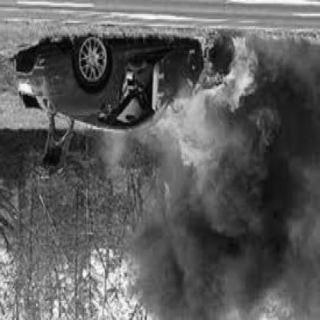Fire: (155, 28, 277, 210)
Smoke: (136, 170, 316, 319), (260, 47, 318, 159)
other: (14, 38, 110, 170)
